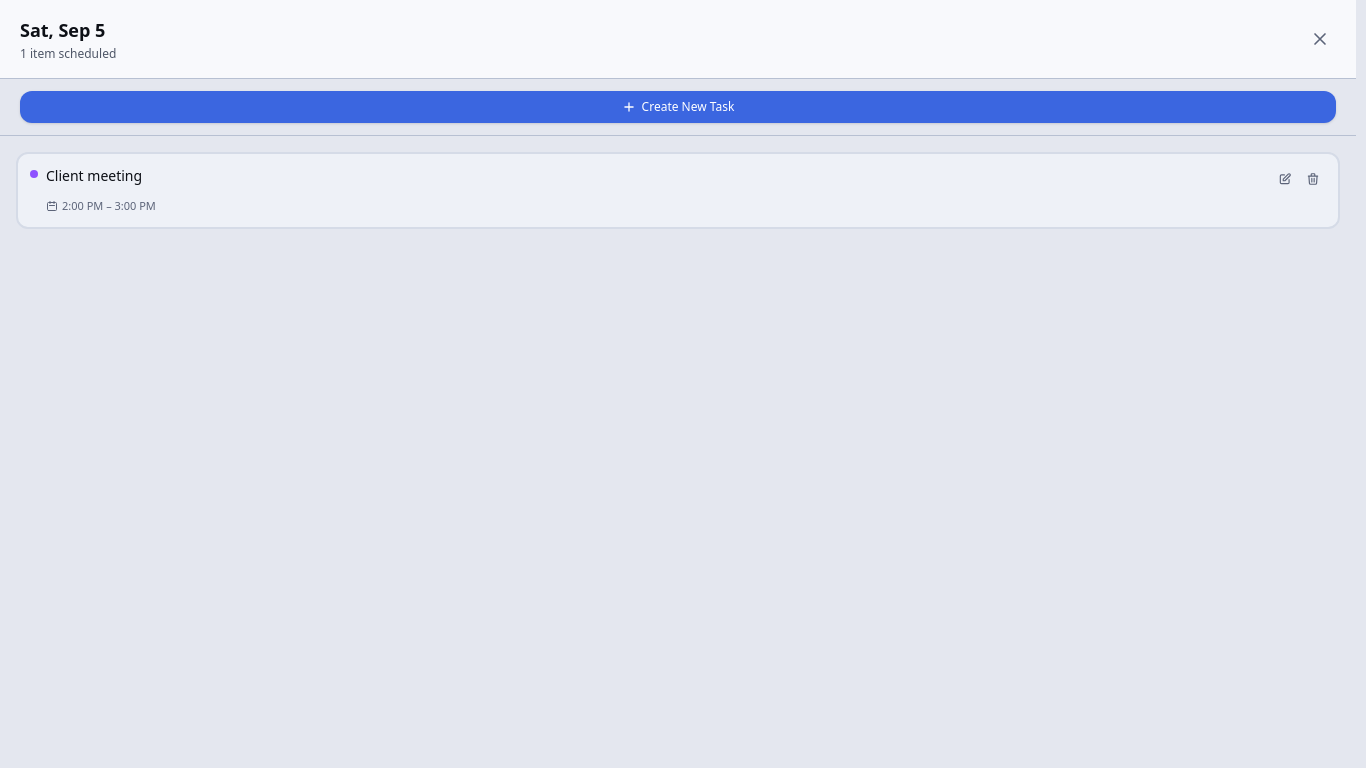
Scenario: event popup: when › prefers the server-formatted start and end when the API sends them
What coordinates should you click on to do the following:
click the heading "Client meeting"
I would click on:
 (94, 176)
Its box is [46,166,142,186].
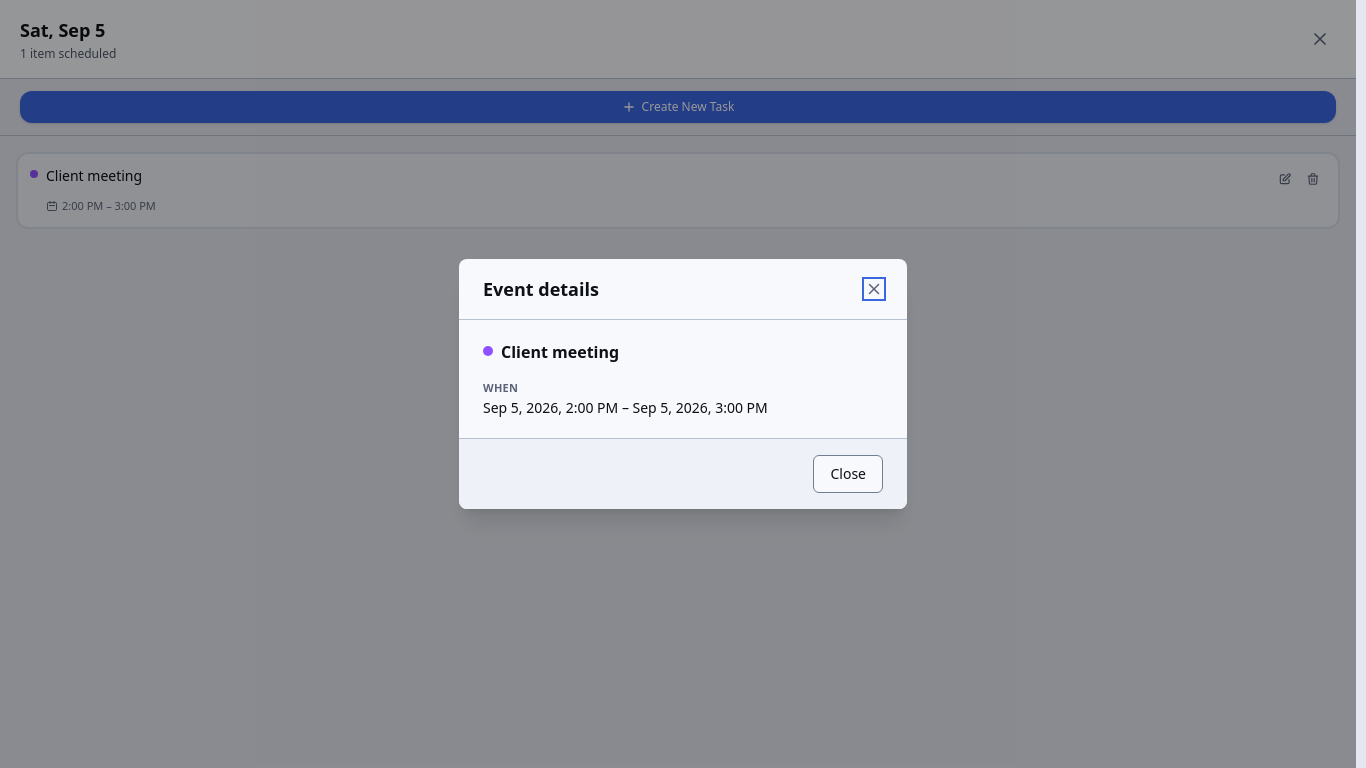
Expected: the text "Sep 5, 2026, 2:00 PM – Sep 5, 2026, 3:00 PM" is shown, [483,398,768,417]
